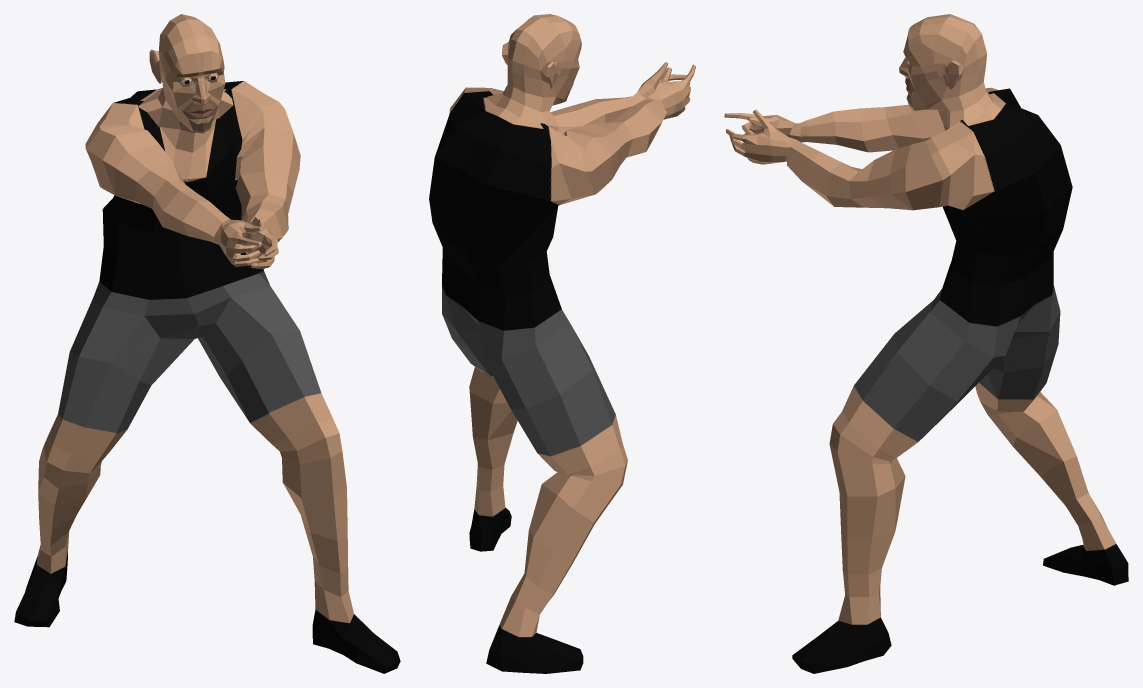
File: PlayerShoot(20).obj
3 views of the same model, side by side, from view 1: azimuth 30°, elevation 25°; view 2: azimuth 150°, elevation 25°; view 3: azimuth 270°, elevation 25° (orthographic). The views are drawn at different scales.
Parts seen in each view (by area): view 1: Plane002; view 2: Plane002; view 3: Plane002.
Part boxes in pixels (left/top/right/bottom): Plane002: left=14, top=14, right=400, bottom=673; Plane002: left=429, top=14, right=695, bottom=673; Plane002: left=724, top=14, right=1128, bottom=673.
Size of the model in its own units: 717 by 1665 by 1029.
